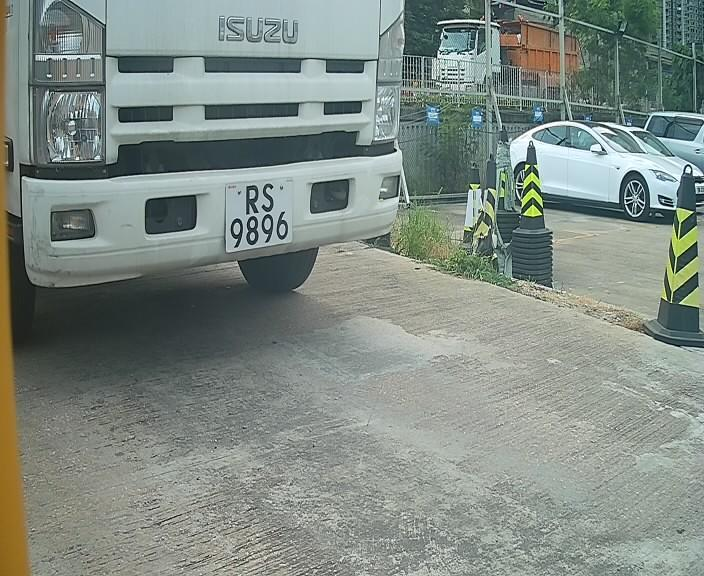vehicle_m: (4, 1, 424, 326)
